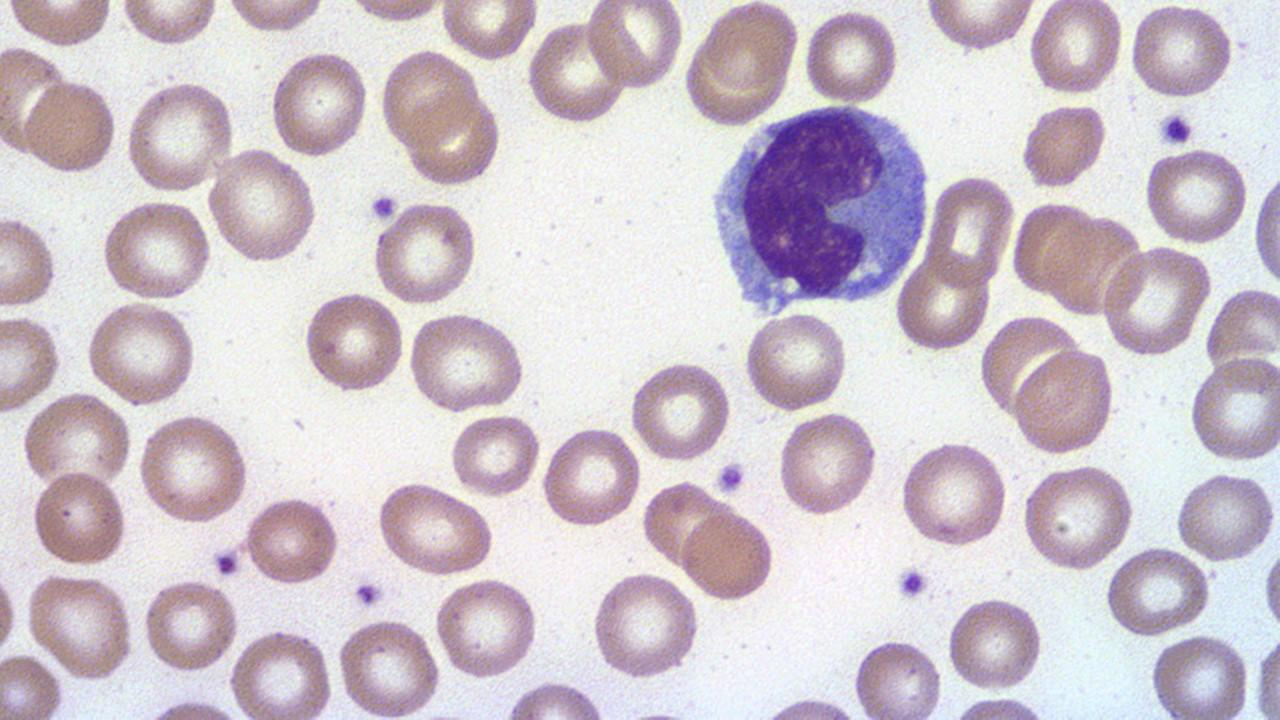Platelets: (1155, 108, 1197, 149), (894, 563, 930, 603), (713, 458, 748, 497), (211, 546, 243, 578), (352, 578, 386, 608), (368, 192, 400, 222)
RBC: (1099, 242, 1215, 360), (206, 146, 320, 266), (135, 411, 252, 526), (122, 77, 236, 195), (405, 309, 529, 415), (1020, 460, 1136, 573), (589, 568, 702, 683), (23, 570, 138, 682), (897, 438, 1010, 550), (85, 298, 198, 410), (100, 196, 215, 302), (369, 197, 480, 306), (373, 480, 497, 576), (1010, 347, 1118, 457), (432, 575, 542, 682), (776, 410, 882, 520), (266, 47, 369, 160), (626, 356, 734, 463), (301, 288, 407, 396), (334, 614, 444, 718), (20, 390, 134, 490), (922, 169, 1016, 290), (742, 309, 850, 413), (539, 423, 644, 528), (524, 20, 628, 126), (376, 46, 482, 150), (1141, 144, 1249, 246), (1128, 3, 1236, 102), (226, 624, 338, 718), (892, 252, 993, 354), (28, 467, 129, 569), (944, 592, 1047, 692), (800, 7, 902, 106), (140, 576, 239, 678), (1173, 467, 1277, 564), (1186, 356, 1280, 463), (20, 75, 119, 176), (1102, 546, 1212, 636), (242, 492, 342, 589), (677, 508, 778, 604), (1025, 2, 1125, 97), (584, 0, 686, 92), (1146, 630, 1252, 718), (700, 1, 798, 94), (848, 632, 946, 718), (1202, 284, 1280, 392), (1016, 100, 1110, 189), (447, 411, 542, 498), (0, 312, 63, 416), (439, 1, 539, 63), (922, 1, 1036, 54), (0, 210, 59, 312), (3, 1, 116, 48), (117, 1, 221, 49), (0, 649, 67, 718), (501, 678, 610, 718), (221, 0, 328, 35), (1251, 163, 1279, 288), (344, 0, 448, 26), (1250, 628, 1280, 716), (1260, 536, 1280, 642)
WBC: (702, 94, 934, 324)
